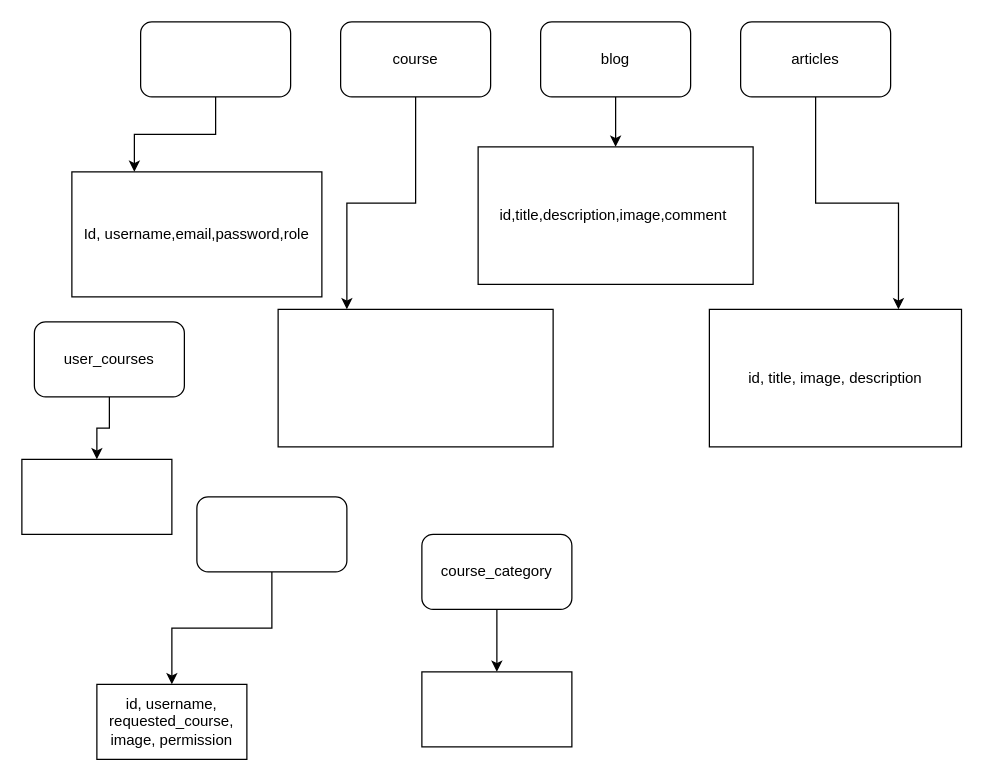
This 984x781 diagram has some shape labels left out. The box of each missing label's shape, as (x1, y1, x2, y2) in pixels:
course_order: (196, 496, 347, 572)
id, category_name: (421, 671, 572, 747)
id, course_name, username,: (21, 458, 172, 534)
id, name, description,price,category_id: (277, 308, 553, 447)
user: (139, 21, 291, 97)
